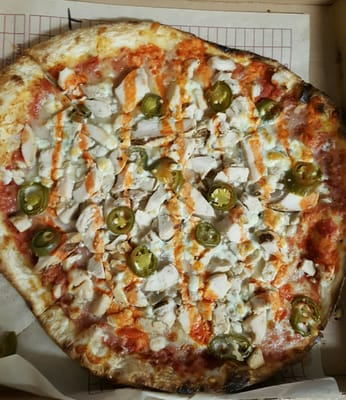sandwich: (0, 17, 339, 395)
